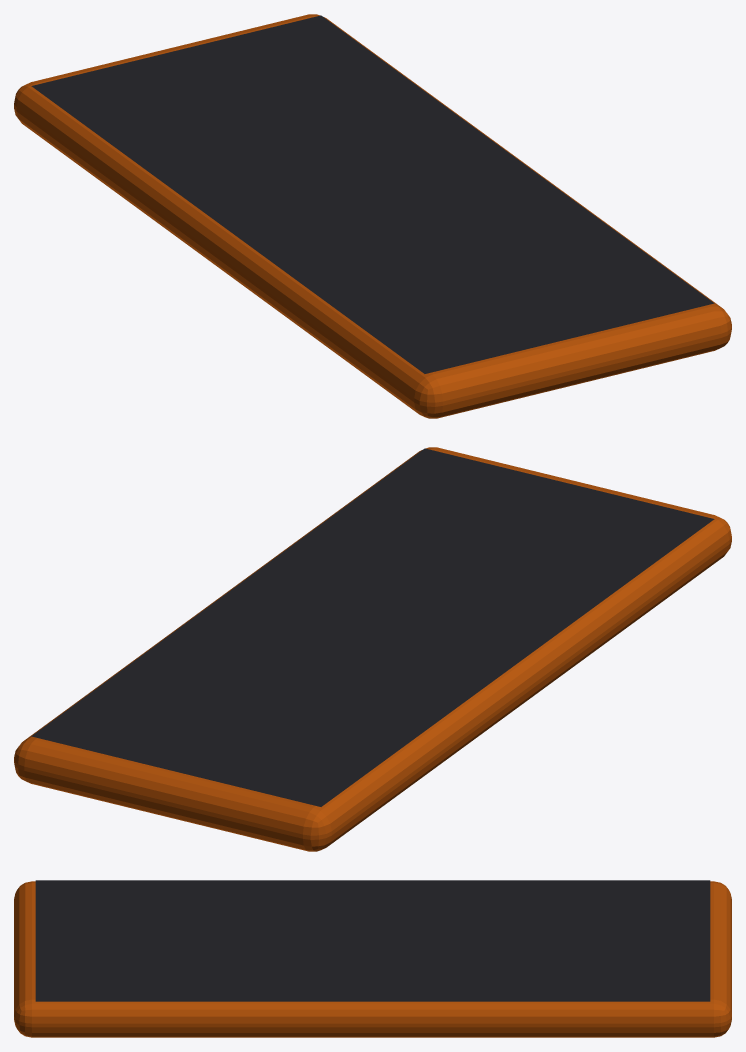
The model's file is iqoo-number-series-model-225-flagship-2023.glb.
3 views of the same model, one above another, from view 1: azimuth 30°, elevation 25°; view 2: azimuth 150°, elevation 25°; view 3: azimuth 270°, elevation 25° (orthographic). The views are drawn at different scales.
Parts seen in each view (by area): view 1: Phone_Screen, Phone_Body; view 2: Phone_Screen, Phone_Body; view 3: Phone_Screen, Phone_Body.
Part boxes in pixels (box(x1,y1,x2,y2)): Phone_Screen: box(31, 15, 714, 373); Phone_Body: box(14, 14, 731, 418); Phone_Screen: box(31, 448, 714, 806); Phone_Body: box(14, 447, 731, 851); Phone_Screen: box(35, 880, 710, 1001); Phone_Body: box(14, 881, 731, 1037).
Size of the model in its own units: 0.0737 by 0.0096 by 0.1696.
